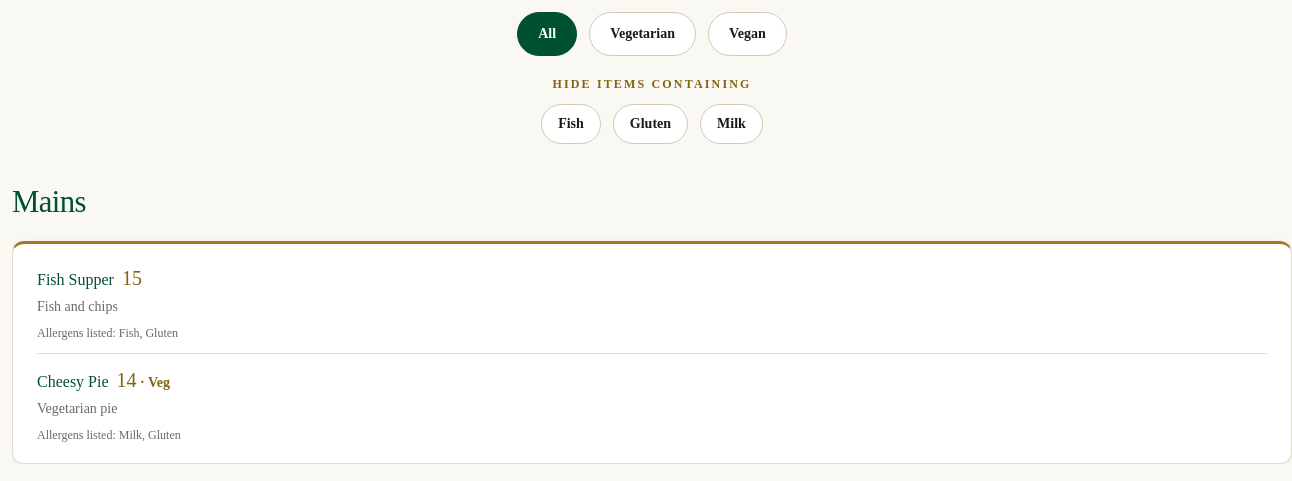
Scenario: FoodMenuSection › hides dishes containing a selected allergen
Click the button "Milk".
click(732, 124)  # box [700,104,763,144]
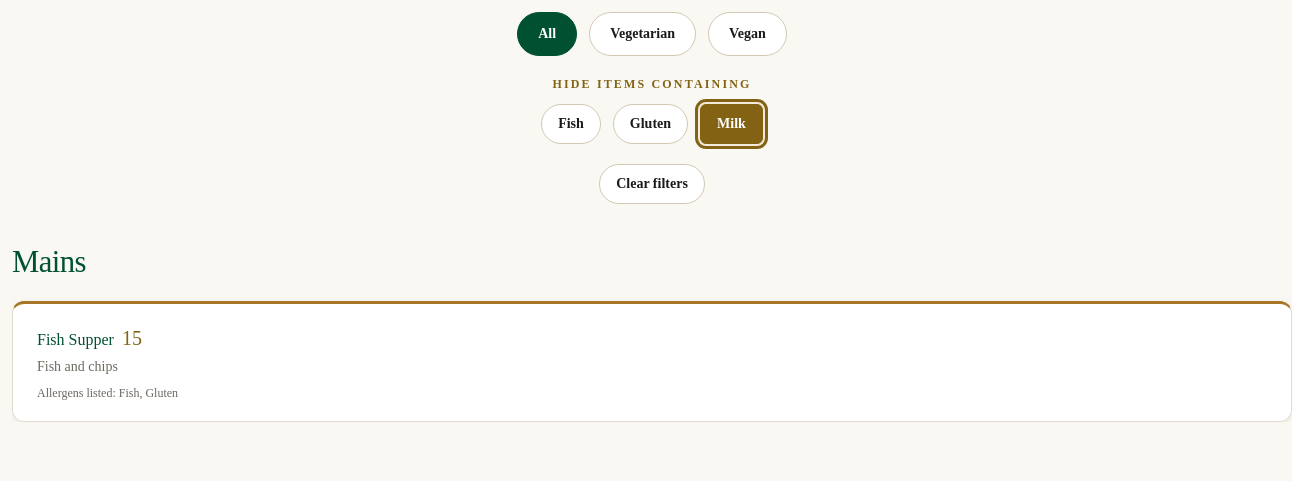
Expected: the text "Fish Supper" is shown, [37,331,114,348]
Now the text "Cheesy Pie" is gone
